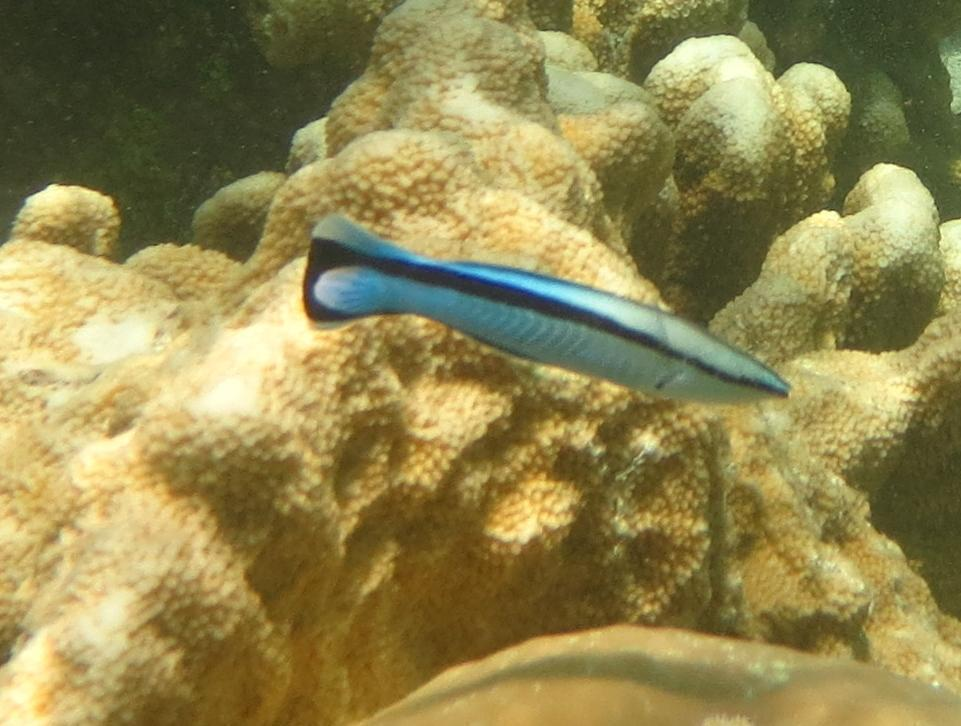Fish: (295, 206, 797, 432)
